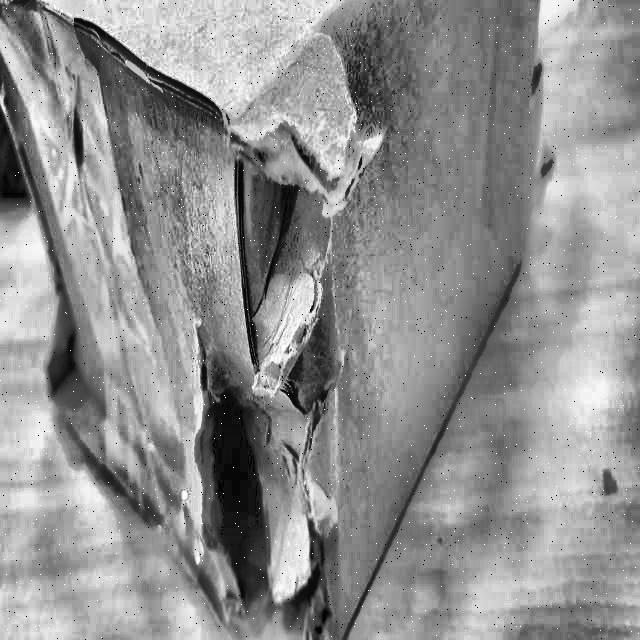box: (0, 1, 540, 640)
hole: (198, 57, 338, 637)
